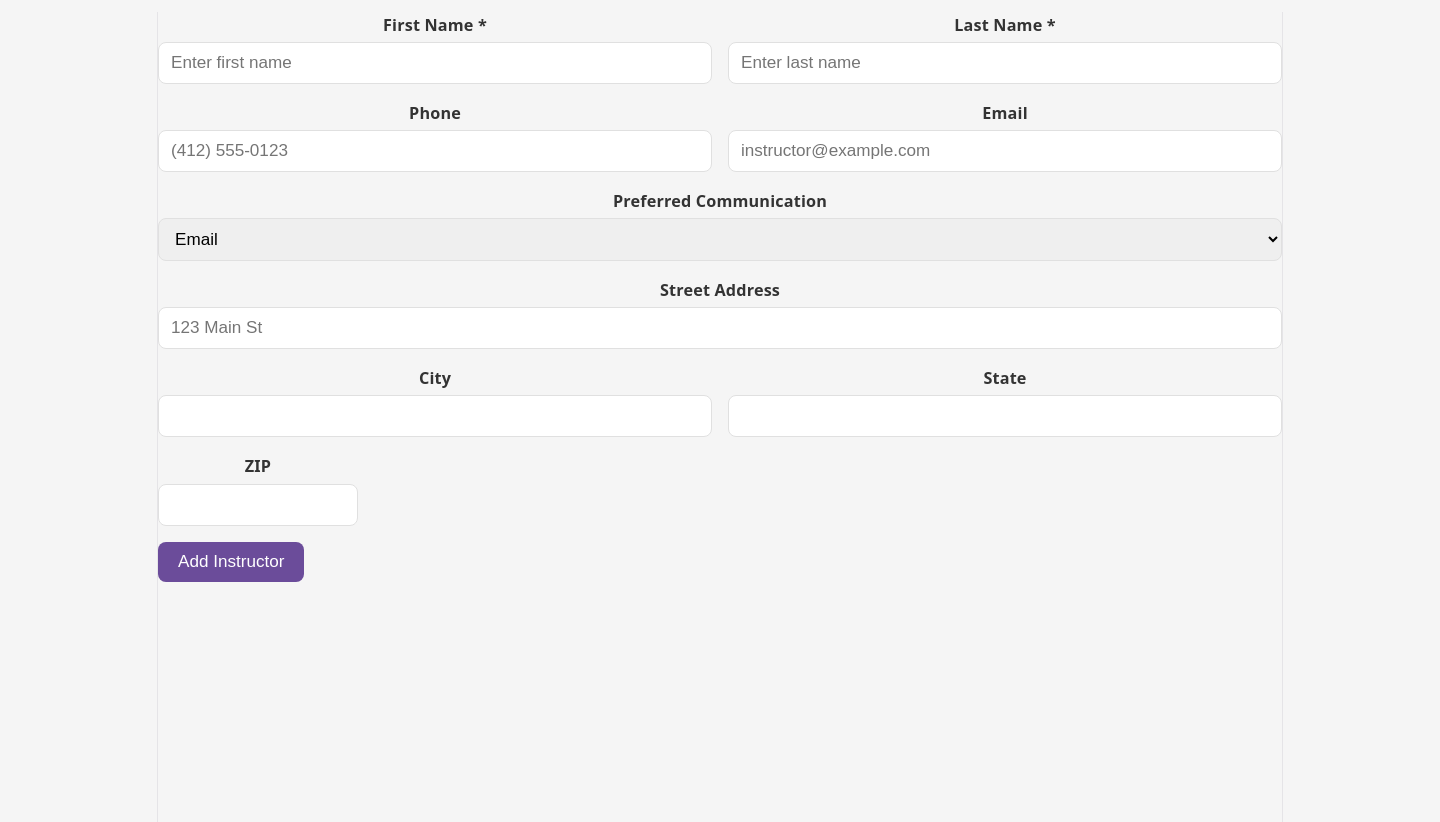
Test: InstructorForm — required field validation › shows error when preferred communication is phone and phone is empty
Type "Jane" into the field with placeholder "Enter first name" at [435, 63], box [158,42,712,84]
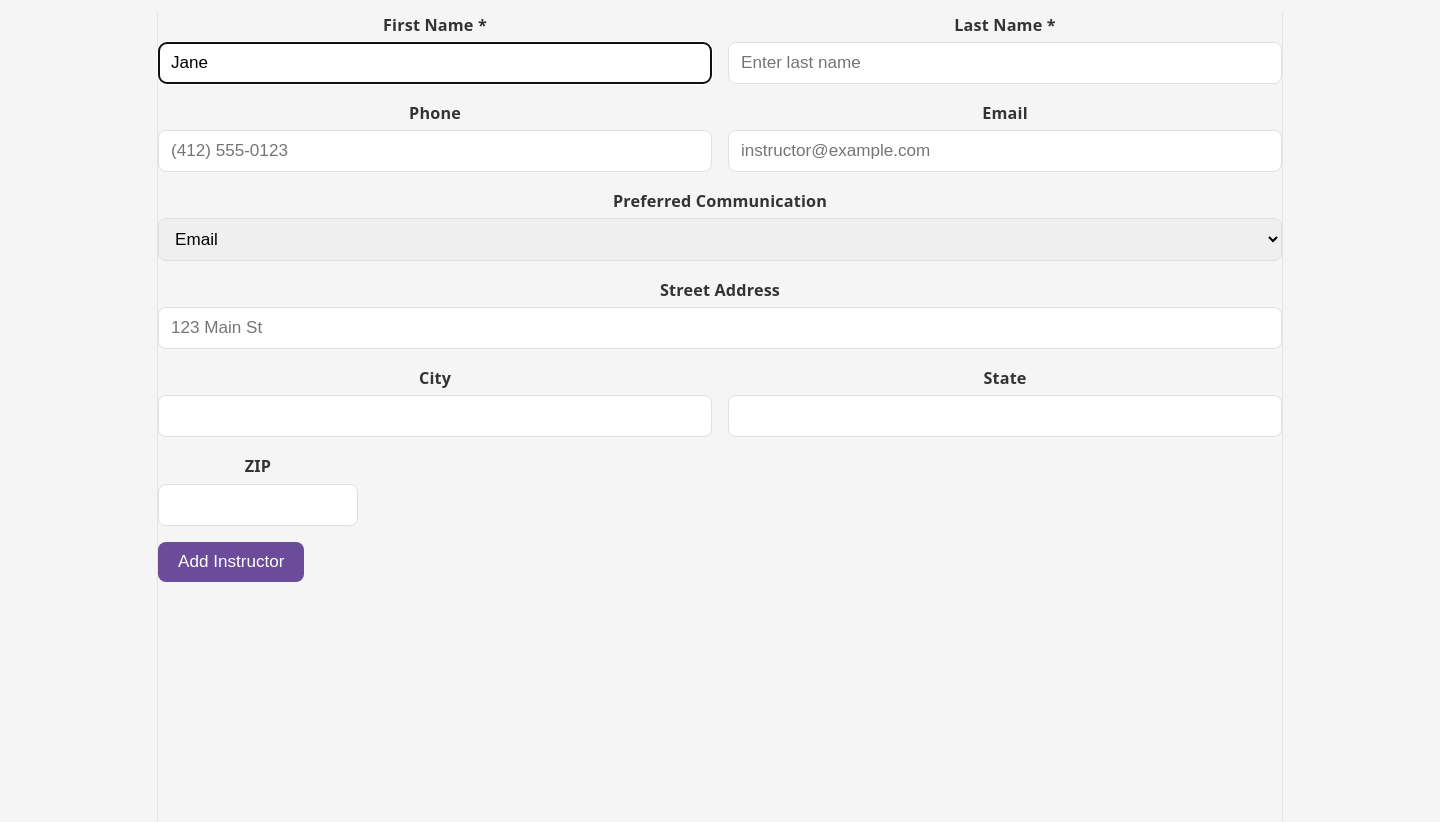
Type "Smith" into the field with placeholder "Enter last name" at [1005, 63], box [728,42,1282,84]
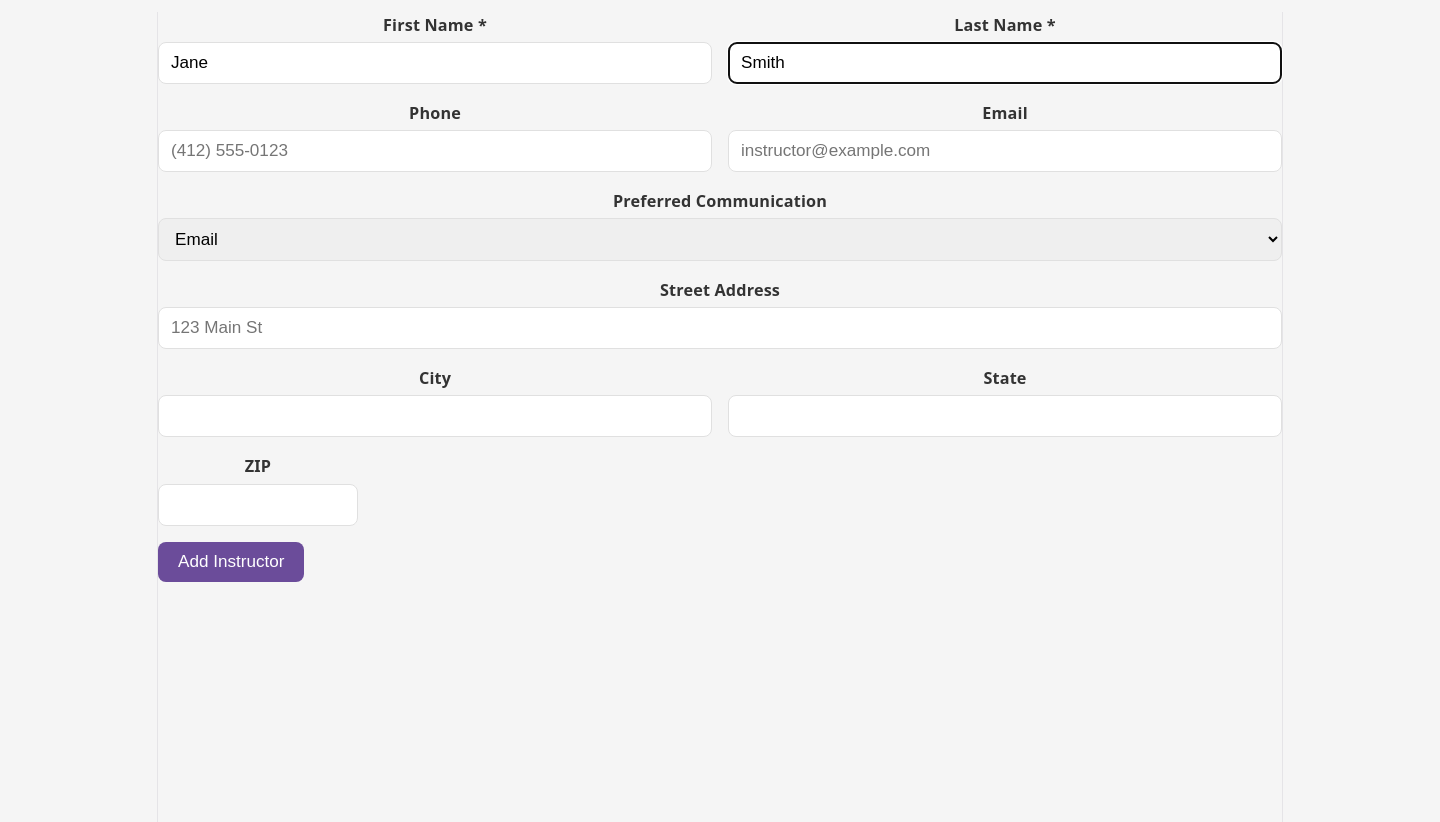
Select "Phone" in the dropdown at [720, 240], box [158,218,1282,261]
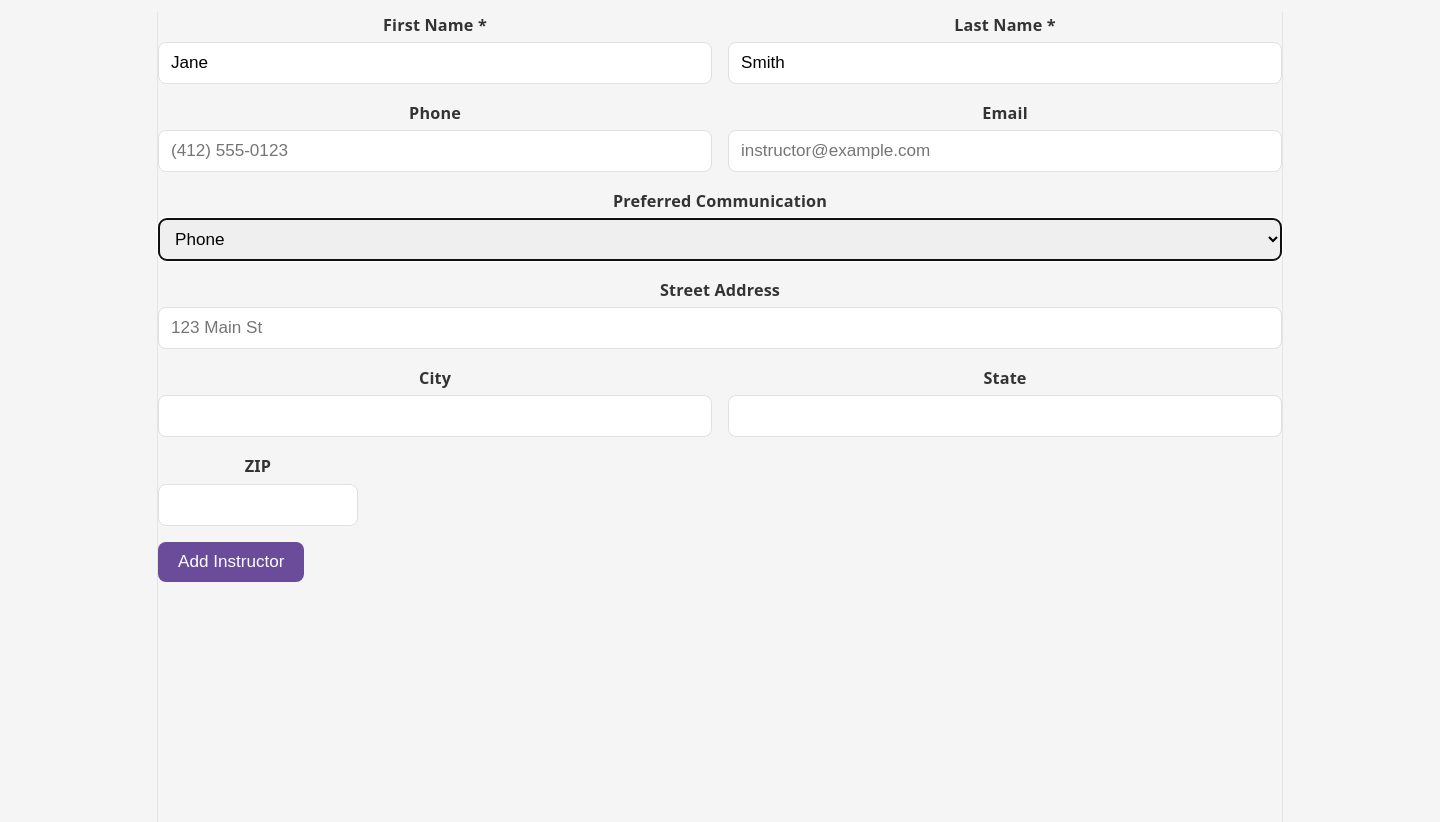
Submit the form from the button "Add Instructor", box [158,542,304,582]
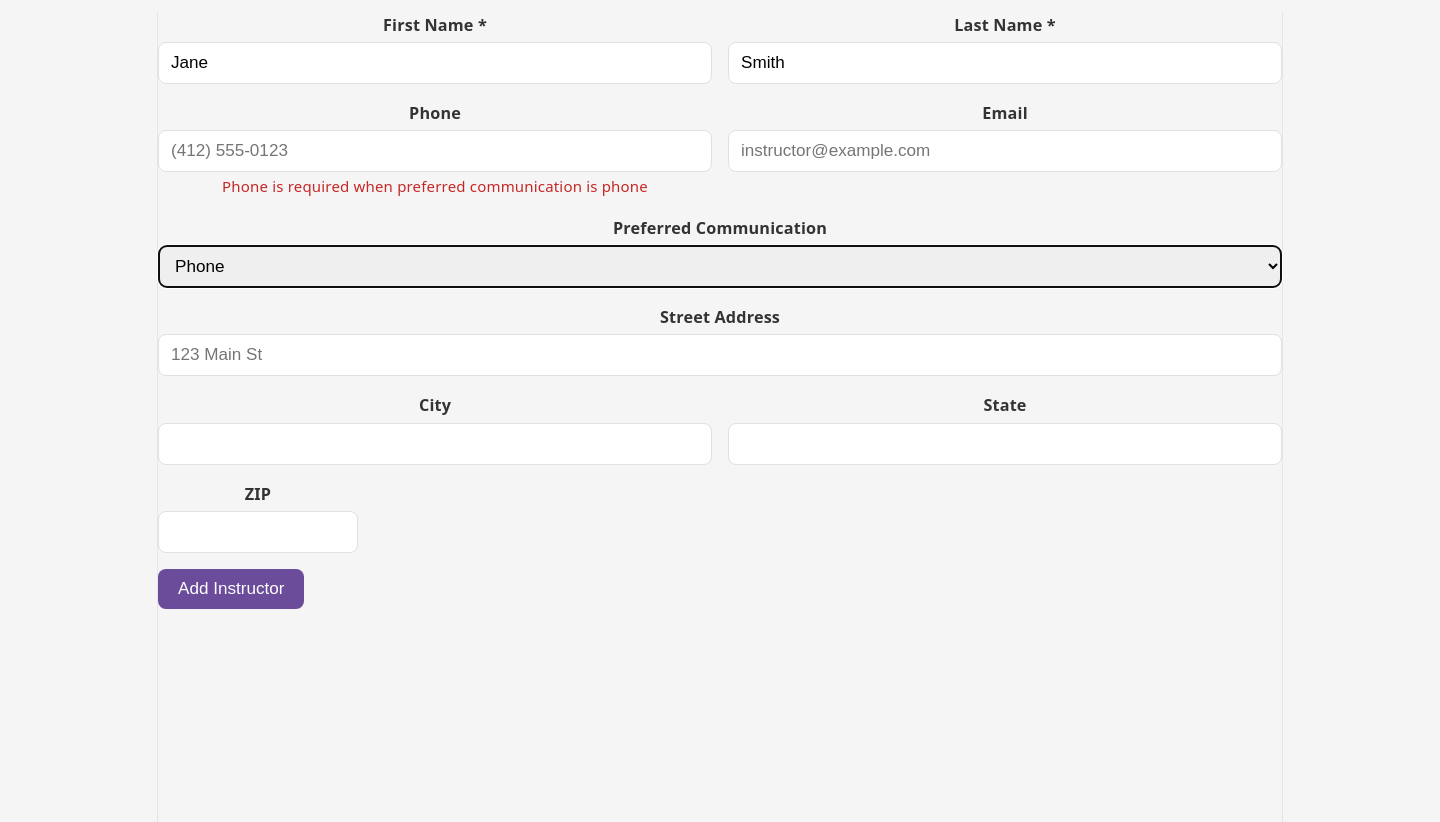
Expected: the text "Phone is required when preferred communication is phone" is shown, [222,176,648,196]
